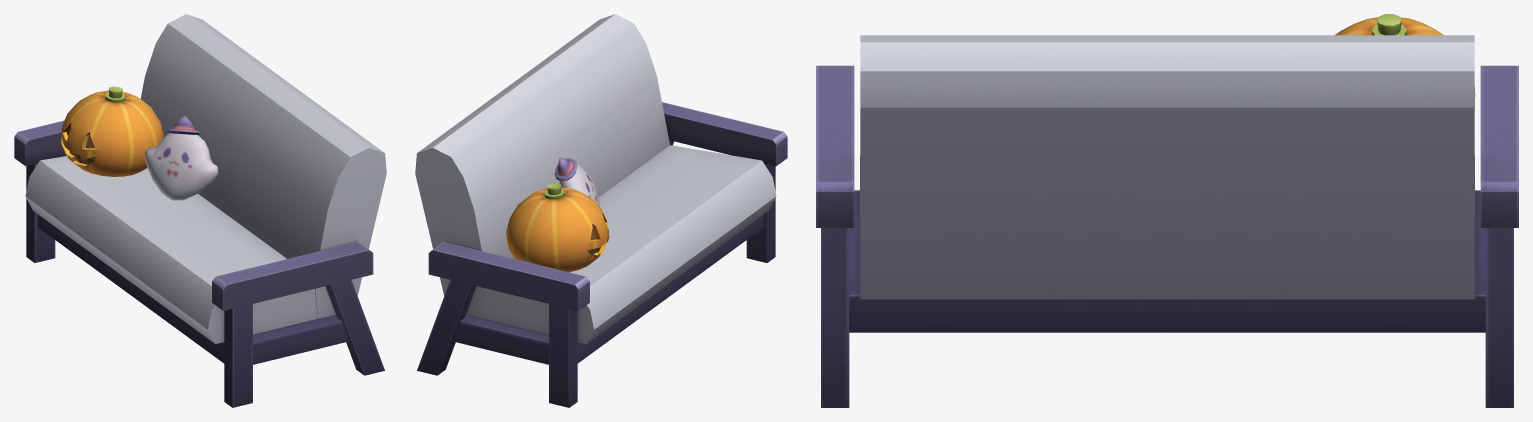
Rendered from my_halloween_01_p_sofa.glb.
3 renders of one model, left to right at view 1: azimuth 30°, elevation 25°; view 2: azimuth 150°, elevation 25°; view 3: azimuth 270°, elevation 25°, orthographic. The views are drawn at different scales.
Visible parts, largest first — view 1: my_halloween_01_p_sofa; view 2: my_halloween_01_p_sofa; view 3: my_halloween_01_p_sofa.
Part boxes in pixels (left/top/right/bottom): my_halloween_01_p_sofa: left=14, top=14, right=386, bottom=407; my_halloween_01_p_sofa: left=415, top=14, right=787, bottom=407; my_halloween_01_p_sofa: left=816, top=14, right=1518, bottom=407.
Bounding box in the file's own units: 0.00481 × 0.00555 × 0.00976.
Materials: 1 (1 with a texture image).
